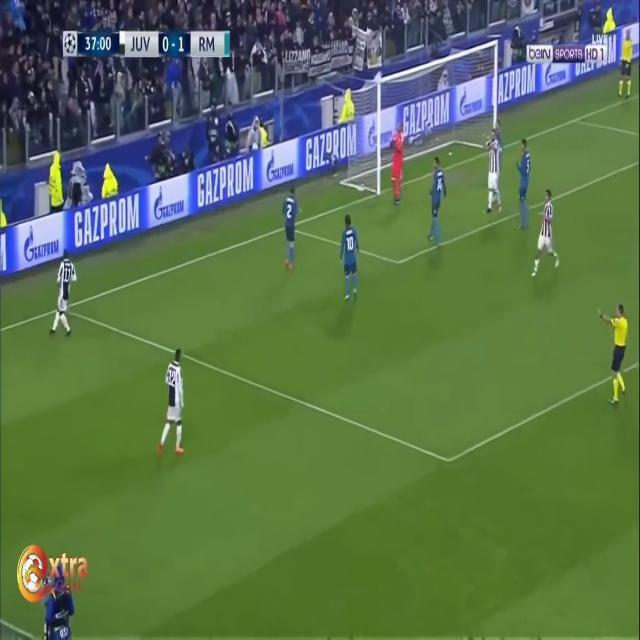goalkeeper: (385, 123, 411, 209)
player: (160, 343, 190, 460), (49, 244, 78, 347), (532, 183, 562, 281), (425, 151, 450, 249), (337, 209, 362, 306), (483, 122, 507, 220), (279, 185, 304, 274), (512, 139, 534, 229)
referee: (600, 299, 637, 412), (616, 34, 638, 107)
